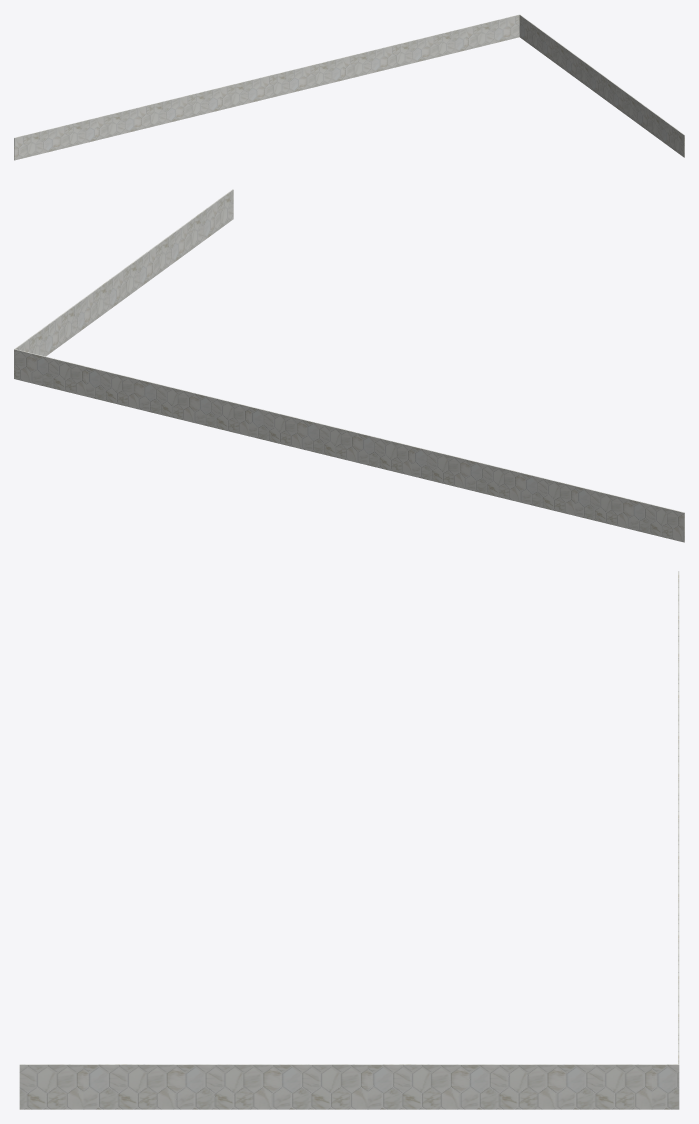
Rendered from BP_MarbleObsessionArabescato.glb.
3 views of the same model, one above another, from view 1: azimuth 30°, elevation 25°; view 2: azimuth 150°, elevation 25°; view 3: azimuth 270°, elevation 25° (orthographic). The views are drawn at different scales.
Visible parts, largest first — view 1: BKSPLASH_marble_obsession_arabescato.001; view 2: BKSPLASH_marble_obsession_arabescato.001; view 3: BKSPLASH_marble_obsession_arabescato.001.
Boxes of the visible parts, x1,y1,x2,y2 form: BKSPLASH_marble_obsession_arabescato.001: [14, 14, 684, 160]; BKSPLASH_marble_obsession_arabescato.001: [14, 189, 684, 542]; BKSPLASH_marble_obsession_arabescato.001: [19, 571, 679, 1109].
Size of the model in its own units: 7.1 by 0.3 by 4.01.
1 material, 1 textured.
